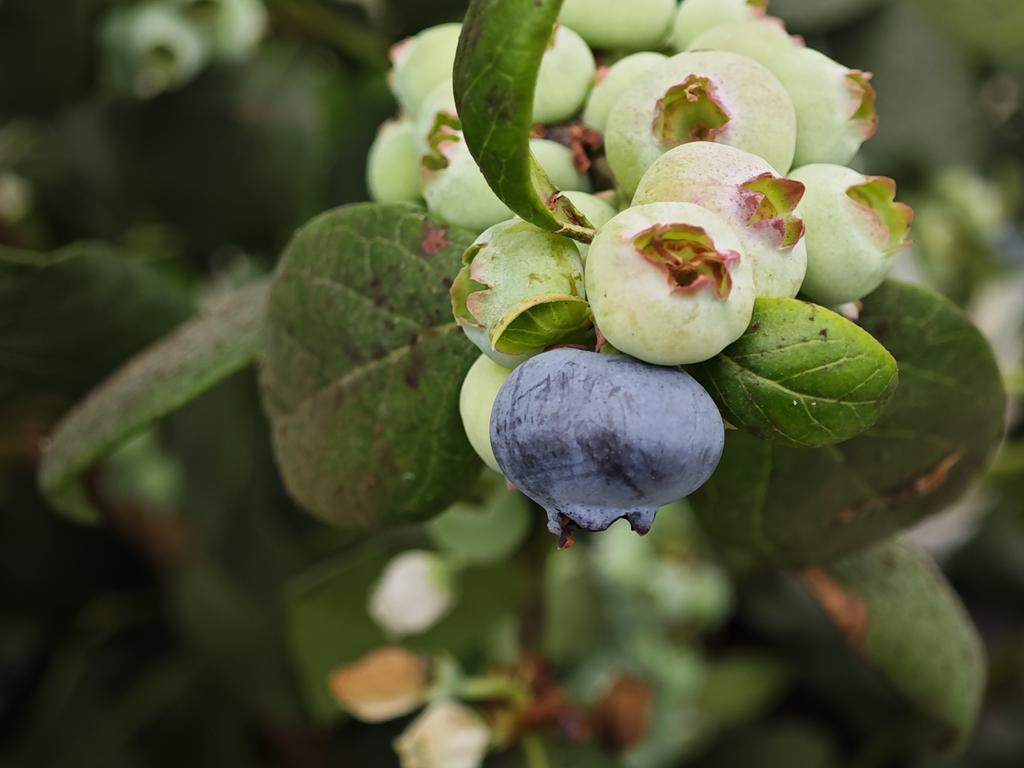RipeBlueBerry: (491, 351, 731, 533)
UnripeBlueBerry: (586, 201, 752, 356)
